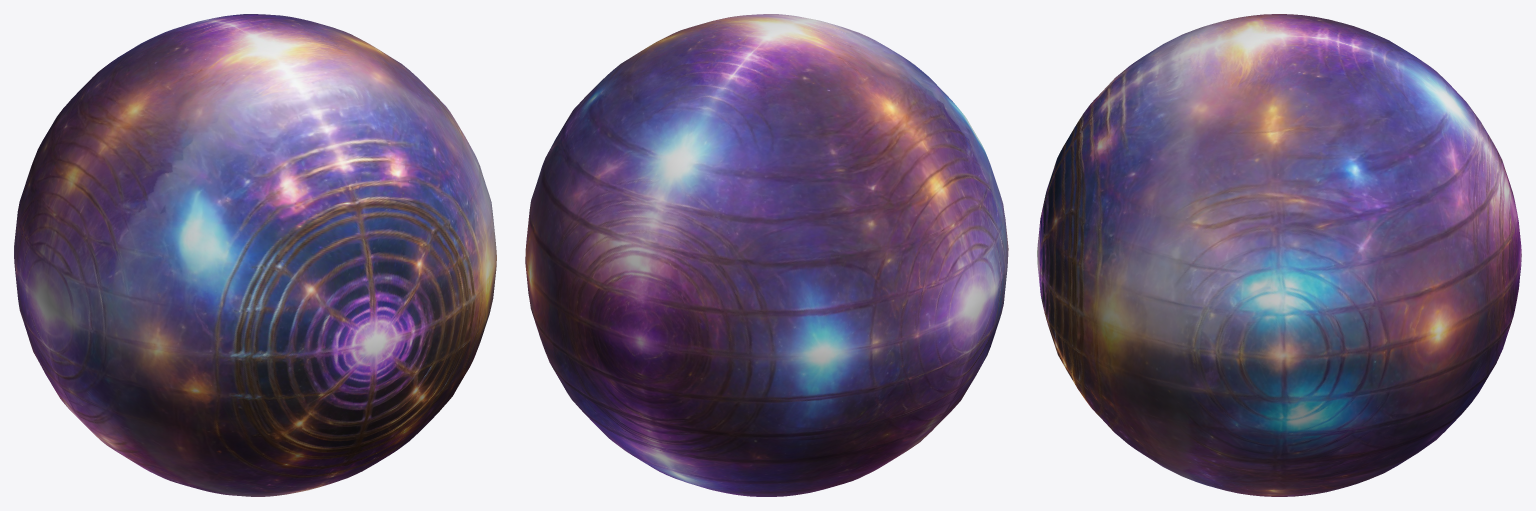
File: 0a7602fc-1aed-45c1-af28-b3609fa45543.glb
3 views of the same model, side by side, from view 1: azimuth 30°, elevation 25°; view 2: azimuth 150°, elevation 25°; view 3: azimuth 270°, elevation 25° (orthographic).
Size of the model in its own units: 1.99 by 1.99 by 2.
Materials: 1 (1 with a texture image).
